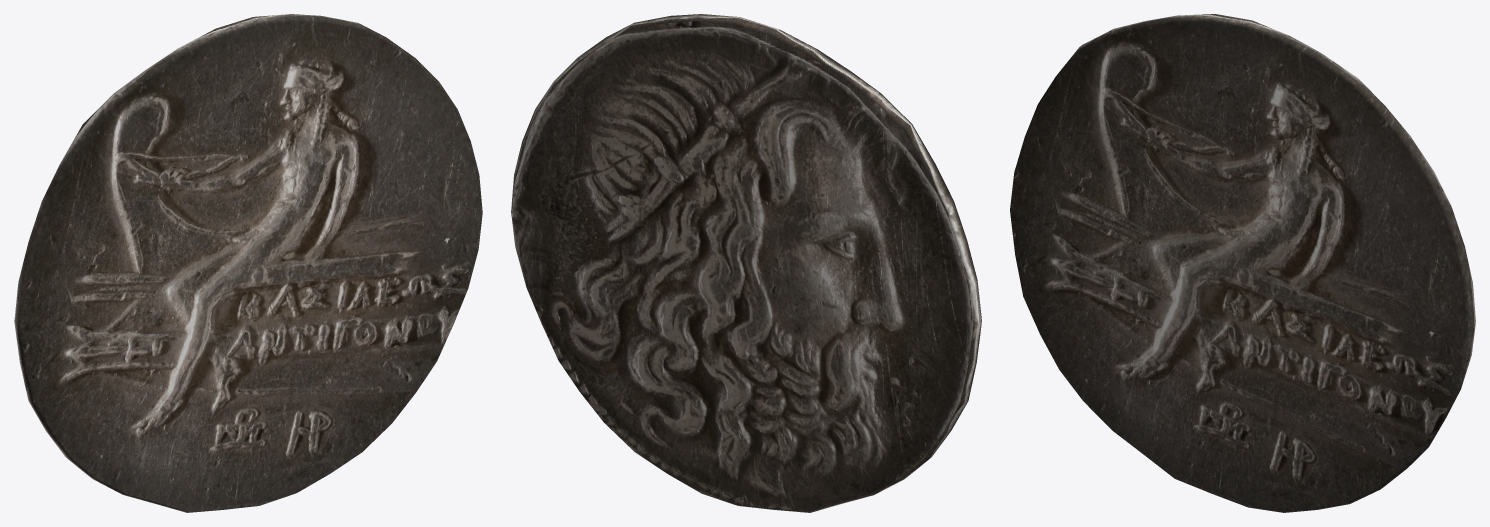
The model's file is tetradrachme.glb.
3 renders of one model, left to right at view 1: azimuth 30°, elevation 25°; view 2: azimuth 150°, elevation 25°; view 3: azimuth 330°, elevation 25°, orthographic.
Bounding box in the file's own units: 0.6803 × 0.6786 × 0.0265.
Materials: 1 (1 with a texture image).
